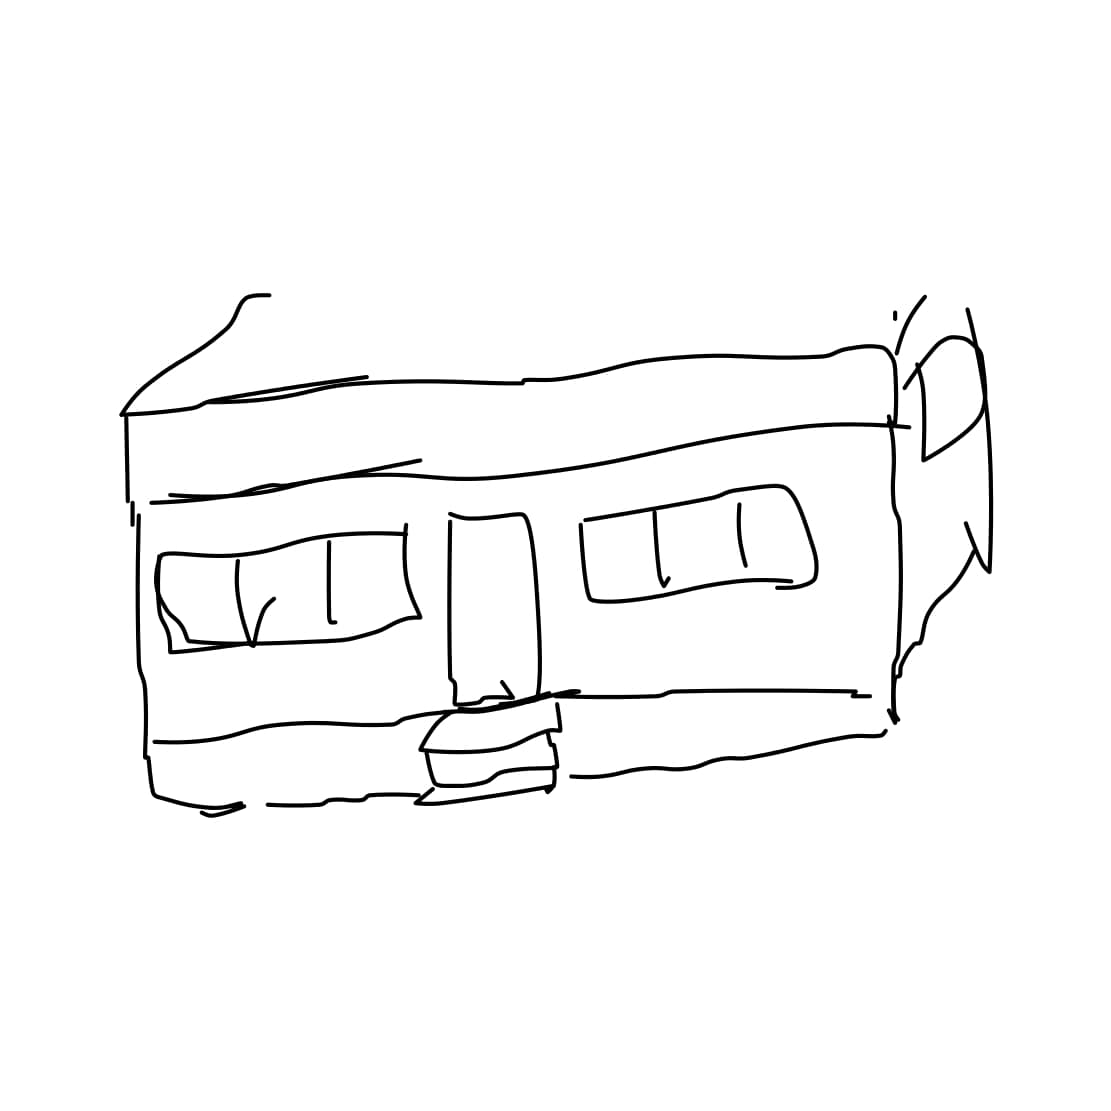House: (107, 271, 1025, 829)
